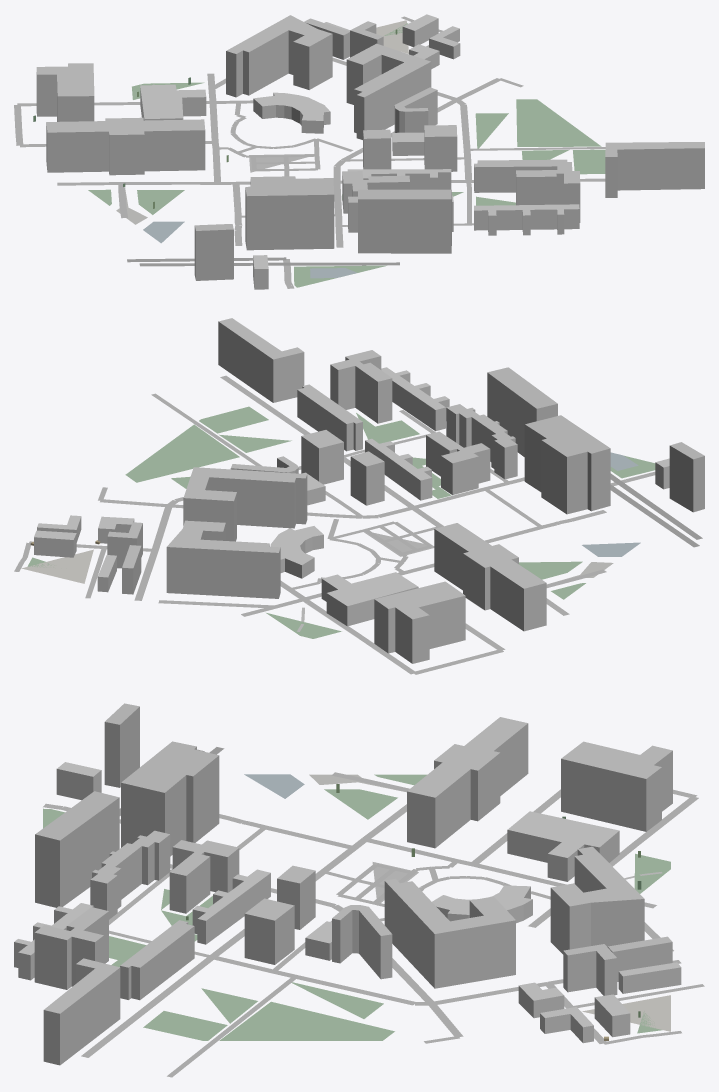
3 renders of one model, top to bottom at view 1: azimuth 30°, elevation 25°; view 2: azimuth 150°, elevation 25°; view 3: azimuth 270°, elevation 25°, orthographic. The views are drawn at different scales.
Size of the model in its own units: 620 by 61.92 by 550.
